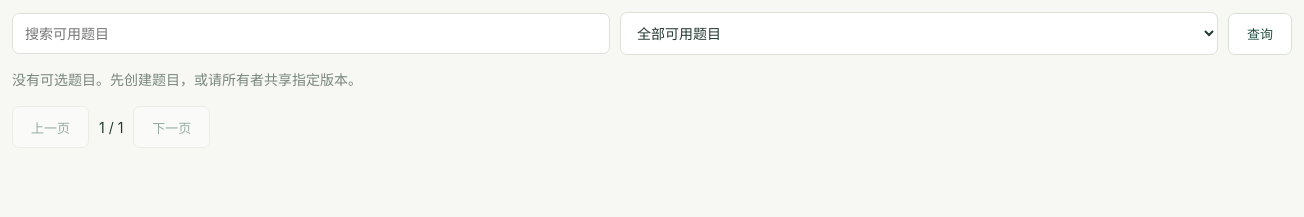
it: 第二阶段五项审阅修复 › 题库内查询携带关键词并显示服务端筛选后的总页数
Type "目标 [x]" into the field with placeholder "搜索可用题目" at (311, 34), box [12,13,610,54]
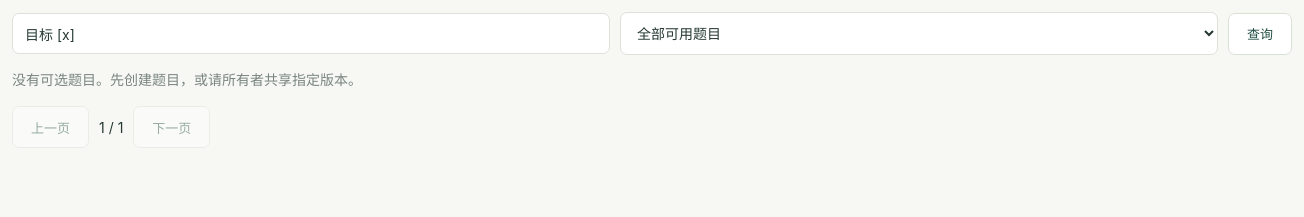
Select "题库" in the dropdown named "选择题库" at (919, 34), box [620,12,1218,55]
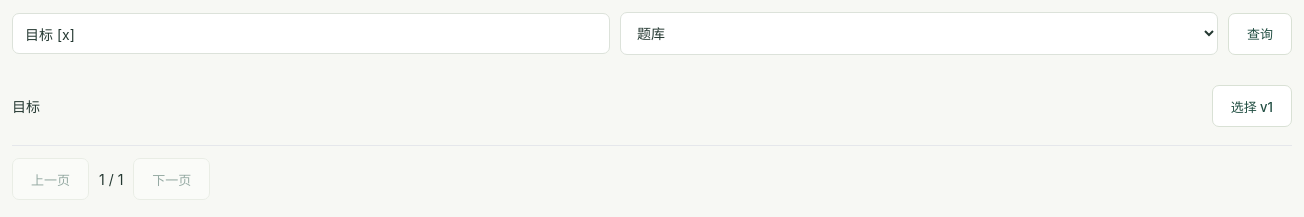
Check: the button "下一页" is disabled, box [133,158,210,200]
Check: the text "目标" is shown, box [12,98,40,115]
